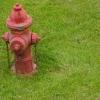a fire hydrant: (3, 7, 44, 74)
